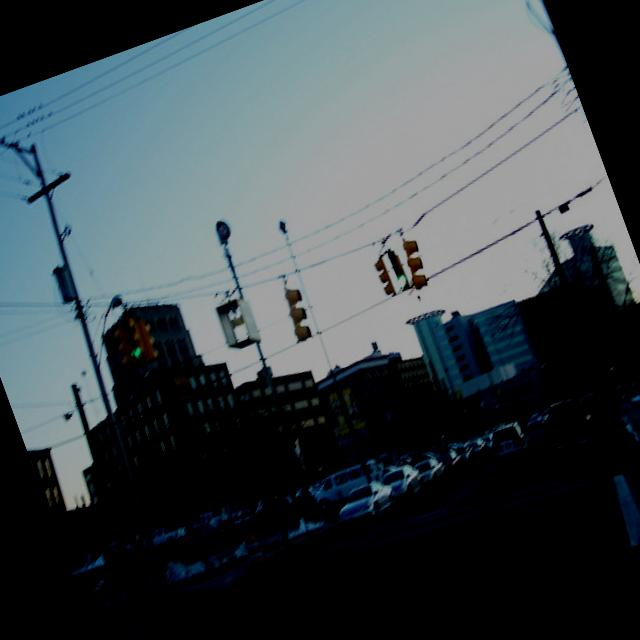Vehicle: (536, 389, 612, 471), (305, 454, 393, 518), (330, 474, 404, 534), (484, 417, 540, 472), (380, 459, 430, 507), (178, 514, 228, 552), (246, 490, 296, 528), (412, 454, 452, 494), (150, 520, 189, 554), (440, 446, 470, 478), (472, 432, 501, 462), (452, 441, 480, 470), (526, 418, 542, 431), (380, 464, 396, 476)
